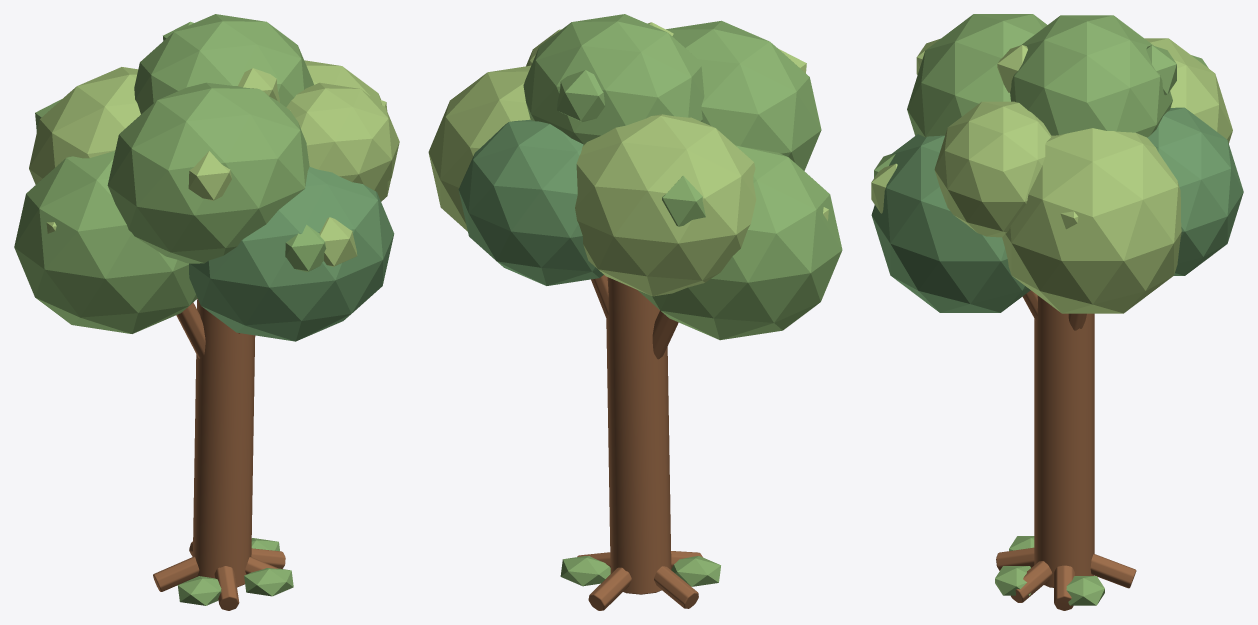
The model's file is forest_tree.glb.
3 renders of one model, left to right at view 1: azimuth 30°, elevation 25°; view 2: azimuth 150°, elevation 25°; view 3: azimuth 270°, elevation 25°, orthographic. The views are drawn at different scales.
Visible parts, largest first — view 1: rounded canopy 03, rounded canopy 00, rounded canopy 02, main trunk, rounded canopy 05, rounded canopy 06, rounded canopy 04, canopy detail.006, canopy detail.005, rounded canopy 01, canopy detail.004, root moss.002 (+5 smaller); view 2: rounded canopy 04, rounded canopy 00, main trunk, rounded canopy 07, rounded canopy 05, rounded canopy 03, rounded canopy 01, canopy detail.011, canopy detail.009, root moss, root moss.001, exposed root.002 (+2 smaller); view 3: rounded canopy 01, main trunk, rounded canopy 05, rounded canopy 02, rounded canopy 06, rounded canopy 03, rounded canopy 07, rounded canopy 04, root moss, exposed root.001, canopy detail.011, exposed root.004 (+5 smaller).
Boxes of the visible parts, left/top/right/bottom form: rounded canopy 03: left=107, top=82, right=309, bottom=263; rounded canopy 00: left=14, top=151, right=197, bottom=333; rounded canopy 02: left=189, top=167, right=394, bottom=341; main trunk: left=193, top=298, right=255, bottom=587; rounded canopy 05: left=134, top=14, right=313, bottom=114; rounded canopy 06: left=286, top=82, right=399, bottom=191; rounded canopy 04: left=29, top=67, right=140, bottom=184; canopy detail.006: left=188, top=151, right=231, bottom=200; canopy detail.005: left=285, top=224, right=326, bottom=272; rounded canopy 01: left=304, top=60, right=390, bottom=201; canopy detail.004: left=319, top=217, right=357, bottom=266; root moss.002: left=244, top=568, right=293, bottom=596; rounded canopy 04: left=575, top=114, right=756, bottom=296; rounded canopy 00: left=637, top=145, right=842, bottom=340; main trunk: left=606, top=277, right=671, bottom=594; rounded canopy 07: left=458, top=119, right=603, bottom=285; rounded canopy 05: left=523, top=14, right=704, bottom=144; rounded canopy 03: left=666, top=20, right=821, bottom=170; rounded canopy 01: left=428, top=65, right=530, bottom=231; canopy detail.011: left=557, top=70, right=604, bottom=122; canopy detail.009: left=662, top=175, right=705, bottom=226; root moss: left=560, top=556, right=610, bottom=586; root moss.001: left=671, top=556, right=720, bottom=586; exposed root.002: left=654, top=566, right=698, bottom=608; rounded canopy 01: left=1002, top=128, right=1181, bottom=313; main trunk: left=1034, top=295, right=1094, bottom=587; rounded canopy 05: left=1010, top=15, right=1172, bottom=137; rounded canopy 02: left=871, top=134, right=1030, bottom=312; rounded canopy 06: left=934, top=101, right=1051, bottom=237; rounded canopy 03: left=907, top=14, right=1047, bottom=137; rounded canopy 07: left=1147, top=107, right=1243, bottom=275; rounded canopy 04: left=1144, top=38, right=1232, bottom=143; root moss: left=1066, top=576, right=1104, bottom=605; exposed root.001: left=1090, top=554, right=1136, bottom=588; canopy detail.011: left=1146, top=45, right=1176, bottom=95; exposed root.004: left=1011, top=561, right=1052, bottom=602.
Bounding box in the file's own units: 4.56 × 6.65 × 3.96.
